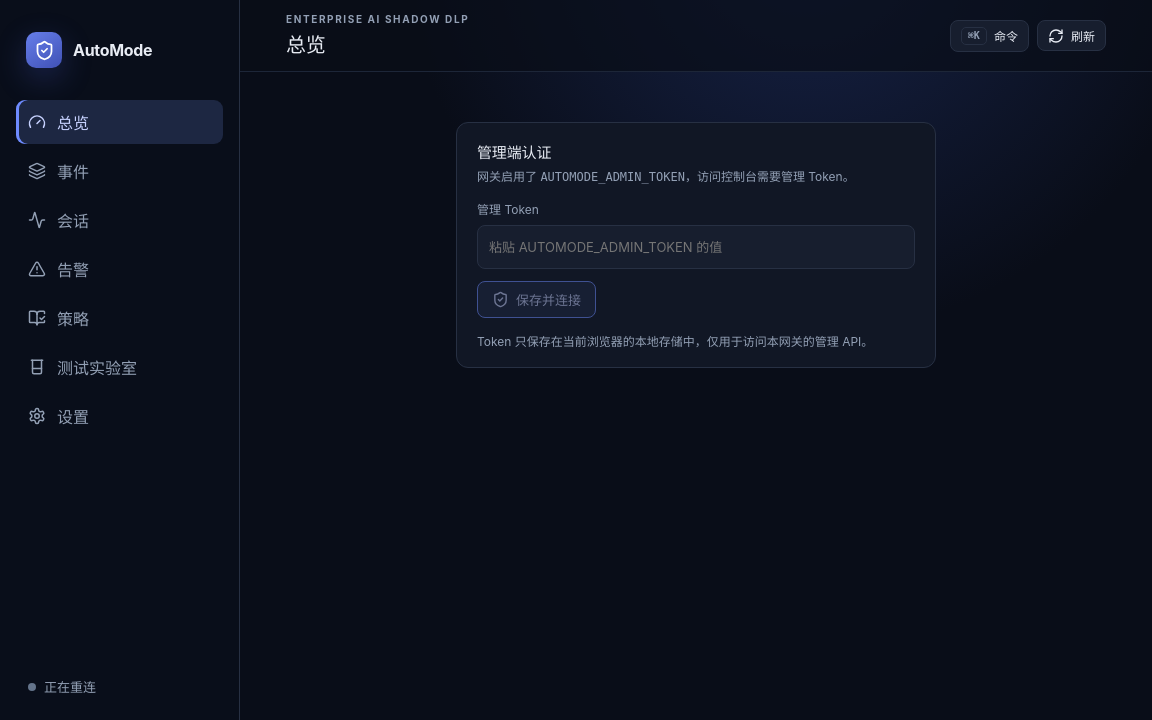
it: shows the auth gate on 401 and unlocks after entering the admin token
Check: the dialog "管理端认证" is shown, box top-left (456, 122), bottom-right (936, 368)
Type "secret-token" into the password field labelled "管理 Token" at (696, 247), box top-left (477, 225), bottom-right (915, 269)
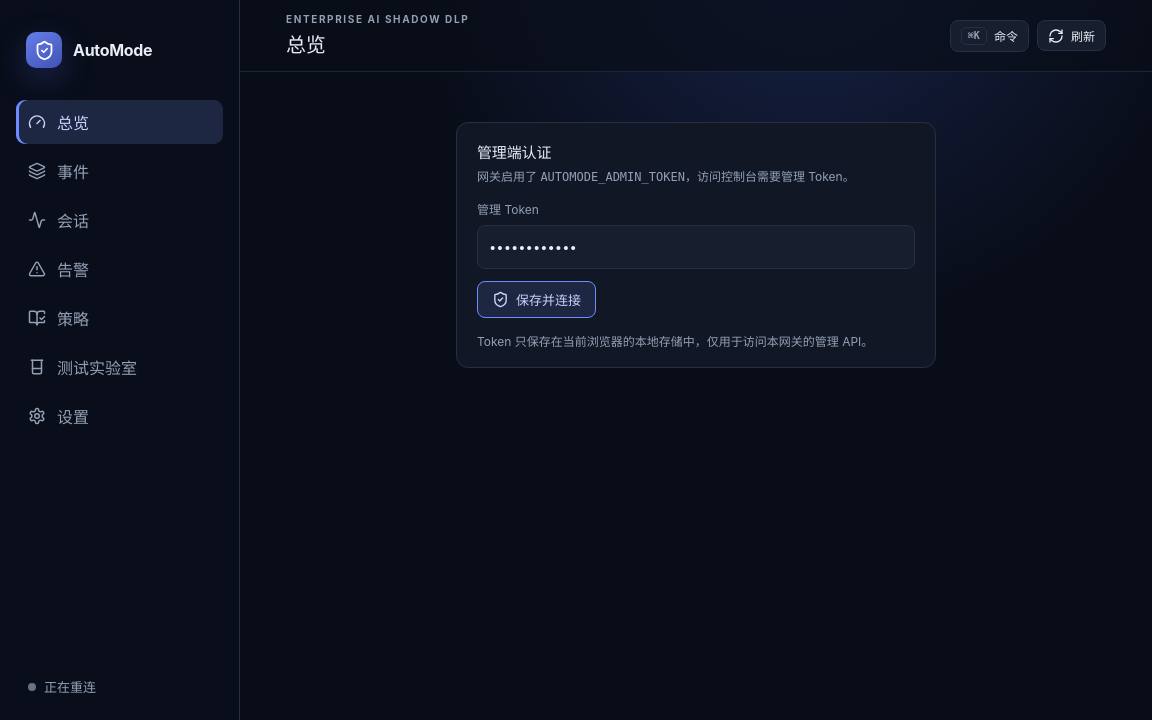
Click the button "保存并连接" at (536, 300), box top-left (477, 281), bottom-right (596, 318)
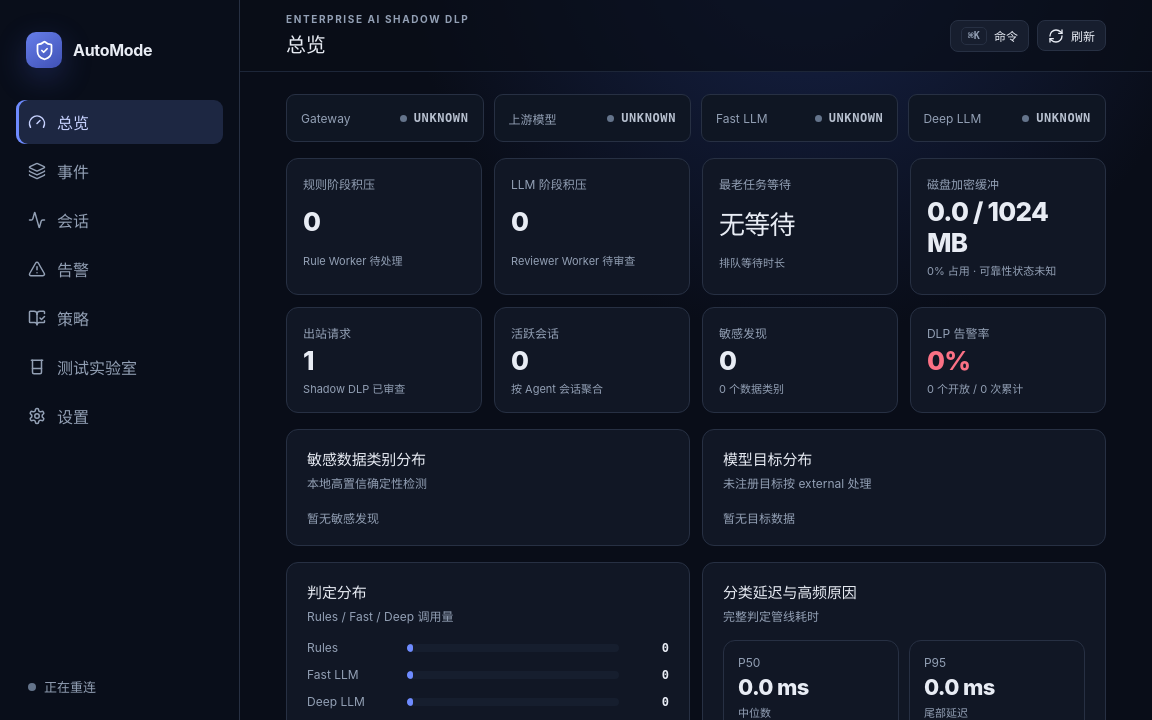
Check: the text "出站请求" is shown, box top-left (303, 326), bottom-right (351, 341)
